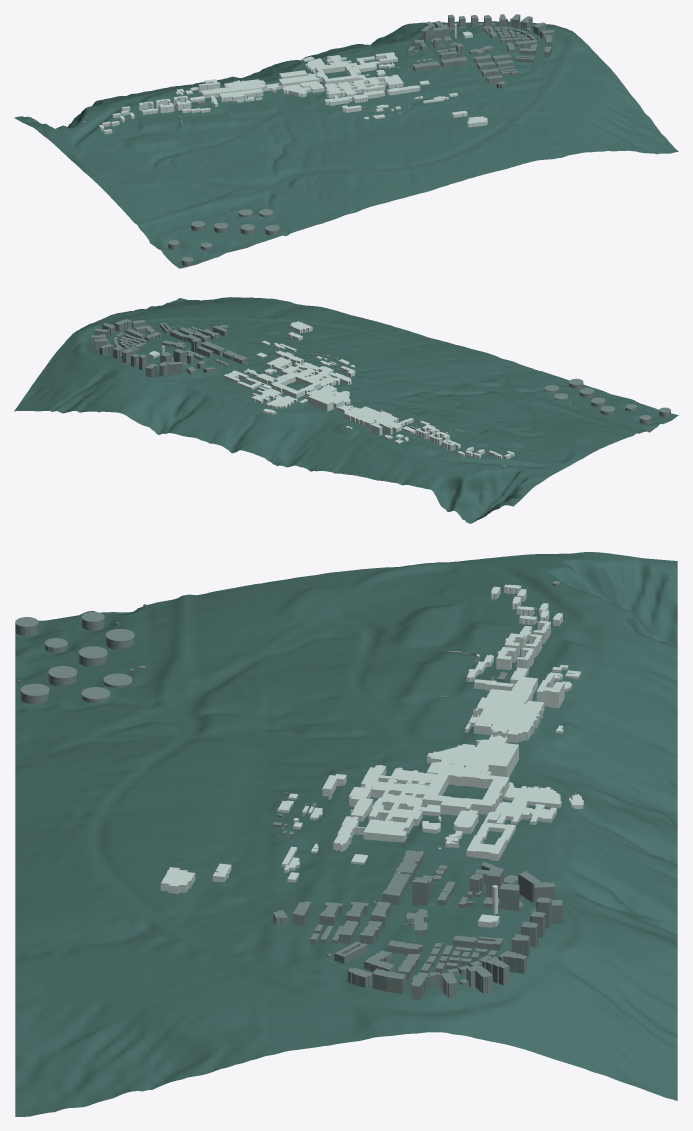
Rendered from sfu-burnaby.glb.
3 renders of one model, top to bottom at view 1: azimuth 30°, elevation 25°; view 2: azimuth 150°, elevation 25°; view 3: azimuth 270°, elevation 25°, orthographic. The views are drawn at different scales.
Visible parts, largest first — view 1: Terrain · 2018 contours, Academic Quadrangle, West Mall Centre, Lorne Davies Complex; view 2: Terrain · 2018 contours, Academic Quadrangle, West Mall Centre; view 3: Terrain · 2018 contours, Academic Quadrangle, West Mall Centre, Education Building, Applied Science Building, Robert C. Brown Hall, Lorne Davies Complex.
Boxes of the visible parts, left/top/right/bottom form: Terrain · 2018 contours: left=14, top=21, right=678, bottom=268; Academic Quadrangle: left=315, top=63, right=359, bottom=84; West Mall Centre: left=224, top=79, right=267, bottom=92; Lorne Davies Complex: left=219, top=88, right=263, bottom=101; Terrain · 2018 contours: left=14, top=297, right=678, bottom=523; Academic Quadrangle: left=271, top=373, right=320, bottom=398; West Mall Centre: left=343, top=407, right=381, bottom=427; Terrain · 2018 contours: left=15, top=552, right=677, bottom=1116; Academic Quadrangle: left=422, top=769, right=509, bottom=814; West Mall Centre: left=490, top=700, right=544, bottom=743; Education Building: left=495, top=801, right=556, bottom=824; Applied Science Building: left=363, top=816, right=414, bottom=842; Robert C. Brown Hall: left=503, top=785, right=561, bottom=808; Lorne Davies Complex: left=473, top=689, right=510, bottom=734.
Size of the model in its own units: 2350 by 291 by 1350.
